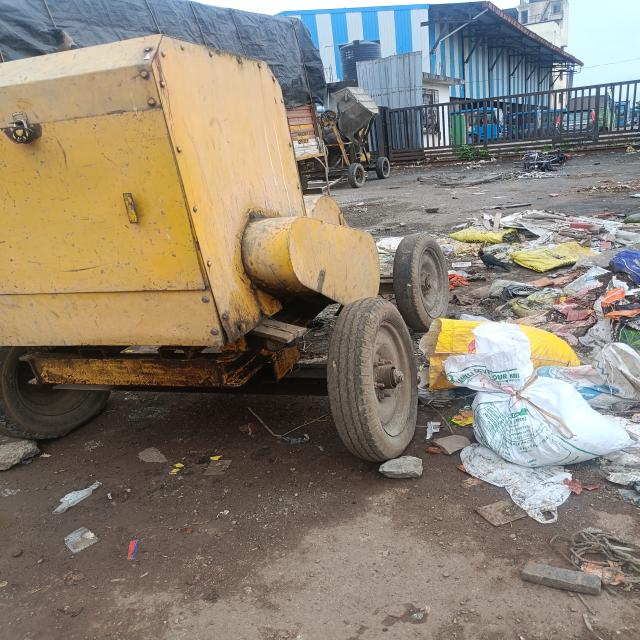garbage: (441, 213, 640, 498)
